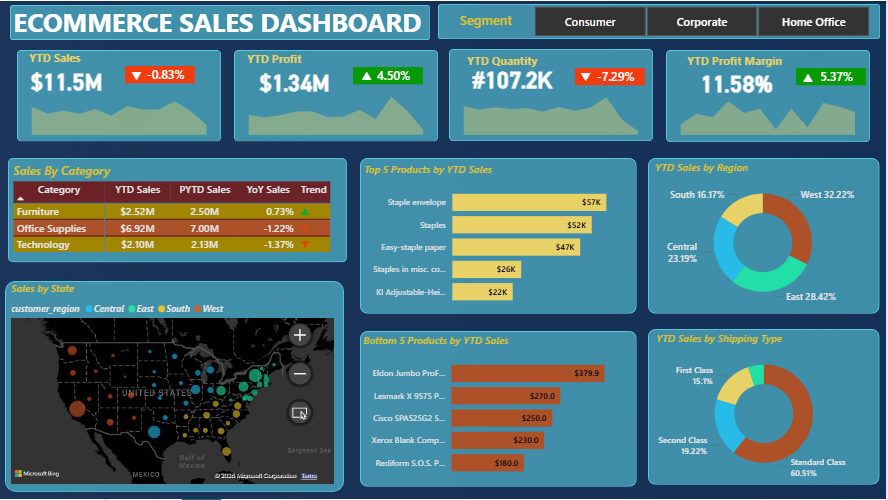

The dashboard page shown, as its layout file describes it:
{"tool":"powerbi","page":{"name":"Page 1","canvas":[1280,720],"ordinal":0},"visuals":[{"type":"shape","box":[15.1,6.2,607.1,50.7],"z":0},{"type":"textbox","box":[15.1,0,608,66.7],"z":1000},{"type":"shape","box":[24,70.2,295.1,132.4],"z":2000},{"type":"card","fields":{"Values":["ecommerce_data.YTD Sales"]},"box":[23.5,89,146.1,50.4],"z":3000},{"type":"areaChart","fields":{"Category":["Calendar.Month"],"Y":["Sum(ecommerce_data.sales_per_order)"]},"box":[31.1,123.6,280.9,75.6],"z":4000},{"type":"shape","box":[181.4,94.1,100.8,25.2],"z":5000},{"type":"card","fields":{"Values":["ecommerce_data.YoY Sales"]},"box":[191.5,92.4,97.4,31.9],"z":6000},{"type":"card","fields":{"Values":["ecommerce_data.Sales Icon"]},"box":[171.3,89,50.4,38.6],"z":7000},{"type":"textbox","box":[37,67.2,97.4,40.3],"z":8000},{"type":"shape","box":[337.8,70.2,295.1,132.4],"z":9000},{"type":"card","fields":{"Values":["ecommerce_data.YTD Profit"]},"box":[352.7,90.6,146.1,50.4],"z":10000},{"type":"areaChart","fields":{"Category":["Calendar.Month"],"Y":["Sum(ecommerce_data.profit_per_order)"]},"box":[344.9,123.6,280,75.6],"z":11000},{"type":"shape","box":[510.6,95.7,100.8,25.2],"z":12000},{"type":"card","fields":{"Values":["ecommerce_data.YoY Profit"]},"box":[520.7,94,97.4,31.9],"z":13000},{"type":"card","fields":{"Values":["ecommerce_data.Profit Icon"]},"box":[507.3,92.4,45.4,33.6],"z":14000},{"type":"textbox","box":[352.9,67.6,96.9,40.9],"z":15000},{"type":"shape","box":[648.9,69.3,295.1,133.3],"z":16000},{"type":"card","fields":{"Values":["ecommerce_data.YTD Concat Qty"]},"box":[667.6,87.1,145.8,49.8],"z":17000},{"type":"areaChart","fields":{"Category":["Calendar.Month"],"Y":["Sum(ecommerce_data.order_quantity)"]},"box":[656,123.6,280,75.6],"z":18000},{"type":"shape","box":[831.3,97.3,100.8,25.2],"z":19000},{"type":"card","fields":{"Values":["ecommerce_data.YoY Qty"]},"box":[841.4,95.6,97.4,31.9],"z":20000},{"type":"card","fields":{"Values":["ecommerce_data.Qty Icon"]},"box":[824.8,94.1,45.4,33.6],"z":21000},{"type":"textbox","box":[670.2,70.2,126.2,37.3],"z":22000},{"type":"shape","box":[963.6,70.2,295.1,133.3],"z":23000},{"type":"card","fields":{"Values":["ecommerce_data.YTD Profit Margin"]},"box":[992.5,92.2,146.1,50.4],"z":24000},{"type":"areaChart","fields":{"Category":["Calendar.Month"],"Y":["ecommerce_data.Profit Margin"]},"box":[970.7,123.6,280,75.6],"z":25000},{"type":"shape","box":[1150.4,97.2,100.8,25.2],"z":26000},{"type":"card","fields":{"Values":["ecommerce_data.YoY Profit Margin"]},"box":[1160.5,95.5,97.4,31.9],"z":27000},{"type":"card","fields":{"Values":["ecommerce_data.Profit Margin Icon"]},"box":[1145.2,95.2,46,33.3],"z":28000},{"type":"textbox","box":[989.3,70.2,171.6,37.3],"z":29000},{"type":"shape","box":[11.1,226.8,490.1,150.7],"z":30000},{"type":"pivotTable","title":"Sales By Category","fields":{"Rows":["ecommerce_data.category_name"],"Values":["ecommerce_data.YTD Sales","ecommerce_data.PYTD Sales","ecommerce_data.YoY Sales","ecommerce_data.Sales Icon"]},"box":[14.3,233.2,486.9,139.6],"z":31000},{"type":"shape","box":[7.9,404.5,490.1,304.5],"z":32000},{"type":"map","title":"Sales by State","fields":{"Y":["us_state_long_lat_codes.latitude"],"X":["us_state_long_lat_codes.longitude"],"Size":["ecommerce_data.YTD Sales"],"Series":["ecommerce_data.customer_region"]},"box":[11.1,404.5,477.4,298.2],"z":33000},{"type":"shape","box":[520.2,226.8,400,225.2],"z":34000},{"type":"shape","box":[520.2,477.4,400,225.2],"z":35000},{"type":"barChart","title":"Top 5 Products by YTD Sales","fields":{"Category":["ecommerce_data.product_name"],"Y":["ecommerce_data.YTD Sales"]},"box":[521.8,233.2,398.1,218.9],"z":36000},{"type":"barChart","title":"Bottom 5 Products by YTD Sales","fields":{"Category":["ecommerce_data.product_name"],"Y":["ecommerce_data.YTD Sales"]},"box":[520.2,480.6,398.1,218.9],"z":37000},{"type":"shape","box":[937.4,226.8,334.7,225.2],"z":38000},{"type":"shape","box":[937.4,474.3,334.7,225.2],"z":39000},{"type":"donutChart","title":"YTD Sales by Region","fields":{"Category":["ecommerce_data.customer_region"],"Y":["ecommerce_data.YTD Sales"]},"box":[942.2,230,320.4,218.9],"z":40000},{"type":"donutChart","title":"YTD Sales by Shipping Type","fields":{"Y":["ecommerce_data.YTD Sales"],"Category":["ecommerce_data.shipping_type"]},"box":[943.7,477.4,320.4,218.9],"z":41000},{"type":"shape","box":[632.9,4.8,639.2,50.8],"z":42000},{"type":"slicer","fields":{"Values":["ecommerce_data.customer_segment"]},"box":[747.1,1.6,532.9,55.5],"z":43000},{"type":"textbox","box":[637.6,9.5,130.1,38.1],"z":44000}]}

Visuals, with their boxes in screenshot pixels (x1, y1, x2, y2), scaled from the page's 1280x720 canvas onto the 888x500 screenshot:
shape: (10, 4, 432, 40)
textbox: (10, 0, 432, 46)
shape: (17, 49, 221, 141)
card - ecommerce_data.YTD Sales: (16, 62, 118, 97)
areaChart - Calendar.Month x Sum(ecommerce_data.sales_per_order): (22, 86, 216, 138)
shape: (126, 65, 196, 83)
card - ecommerce_data.YoY Sales: (133, 64, 200, 86)
card - ecommerce_data.Sales Icon: (119, 62, 154, 89)
textbox: (26, 47, 93, 75)
shape: (234, 49, 439, 141)
card - ecommerce_data.YTD Profit: (245, 63, 346, 98)
areaChart - Calendar.Month x Sum(ecommerce_data.profit_per_order): (239, 86, 434, 138)
shape: (354, 66, 424, 84)
card - ecommerce_data.YoY Profit: (361, 65, 429, 87)
card - ecommerce_data.Profit Icon: (352, 64, 383, 88)
textbox: (245, 47, 312, 75)
shape: (450, 48, 655, 141)
card - ecommerce_data.YTD Concat Qty: (463, 60, 564, 95)
areaChart - Calendar.Month x Sum(ecommerce_data.order_quantity): (455, 86, 649, 138)
shape: (577, 68, 647, 85)
card - ecommerce_data.YoY Qty: (584, 66, 651, 89)
card - ecommerce_data.Qty Icon: (572, 65, 604, 89)
textbox: (465, 49, 553, 75)
shape: (668, 49, 873, 141)
card - ecommerce_data.YTD Profit Margin: (689, 64, 790, 99)
areaChart - Calendar.Month x ecommerce_data.Profit Margin: (673, 86, 868, 138)
shape: (798, 68, 868, 85)
card - ecommerce_data.YoY Profit Margin: (805, 66, 873, 88)
card - ecommerce_data.Profit Margin Icon: (794, 66, 826, 89)
textbox: (686, 49, 805, 75)
shape: (8, 158, 348, 262)
"Sales By Category" pivotTable: (10, 162, 348, 259)
shape: (5, 281, 345, 492)
"Sales by State" map: (8, 281, 339, 488)
shape: (361, 158, 638, 314)
shape: (361, 332, 638, 488)
"Top 5 Products by YTD Sales" barChart: (362, 162, 638, 314)
"Bottom 5 Products by YTD Sales" barChart: (361, 334, 637, 486)
shape: (650, 158, 883, 314)
shape: (650, 329, 883, 486)
"YTD Sales by Region" donutChart: (654, 160, 876, 312)
"YTD Sales by Shipping Type" donutChart: (655, 332, 877, 484)
shape: (439, 3, 883, 39)
slicer - ecommerce_data.customer_segment: (518, 1, 887, 40)
textbox: (442, 7, 533, 33)
